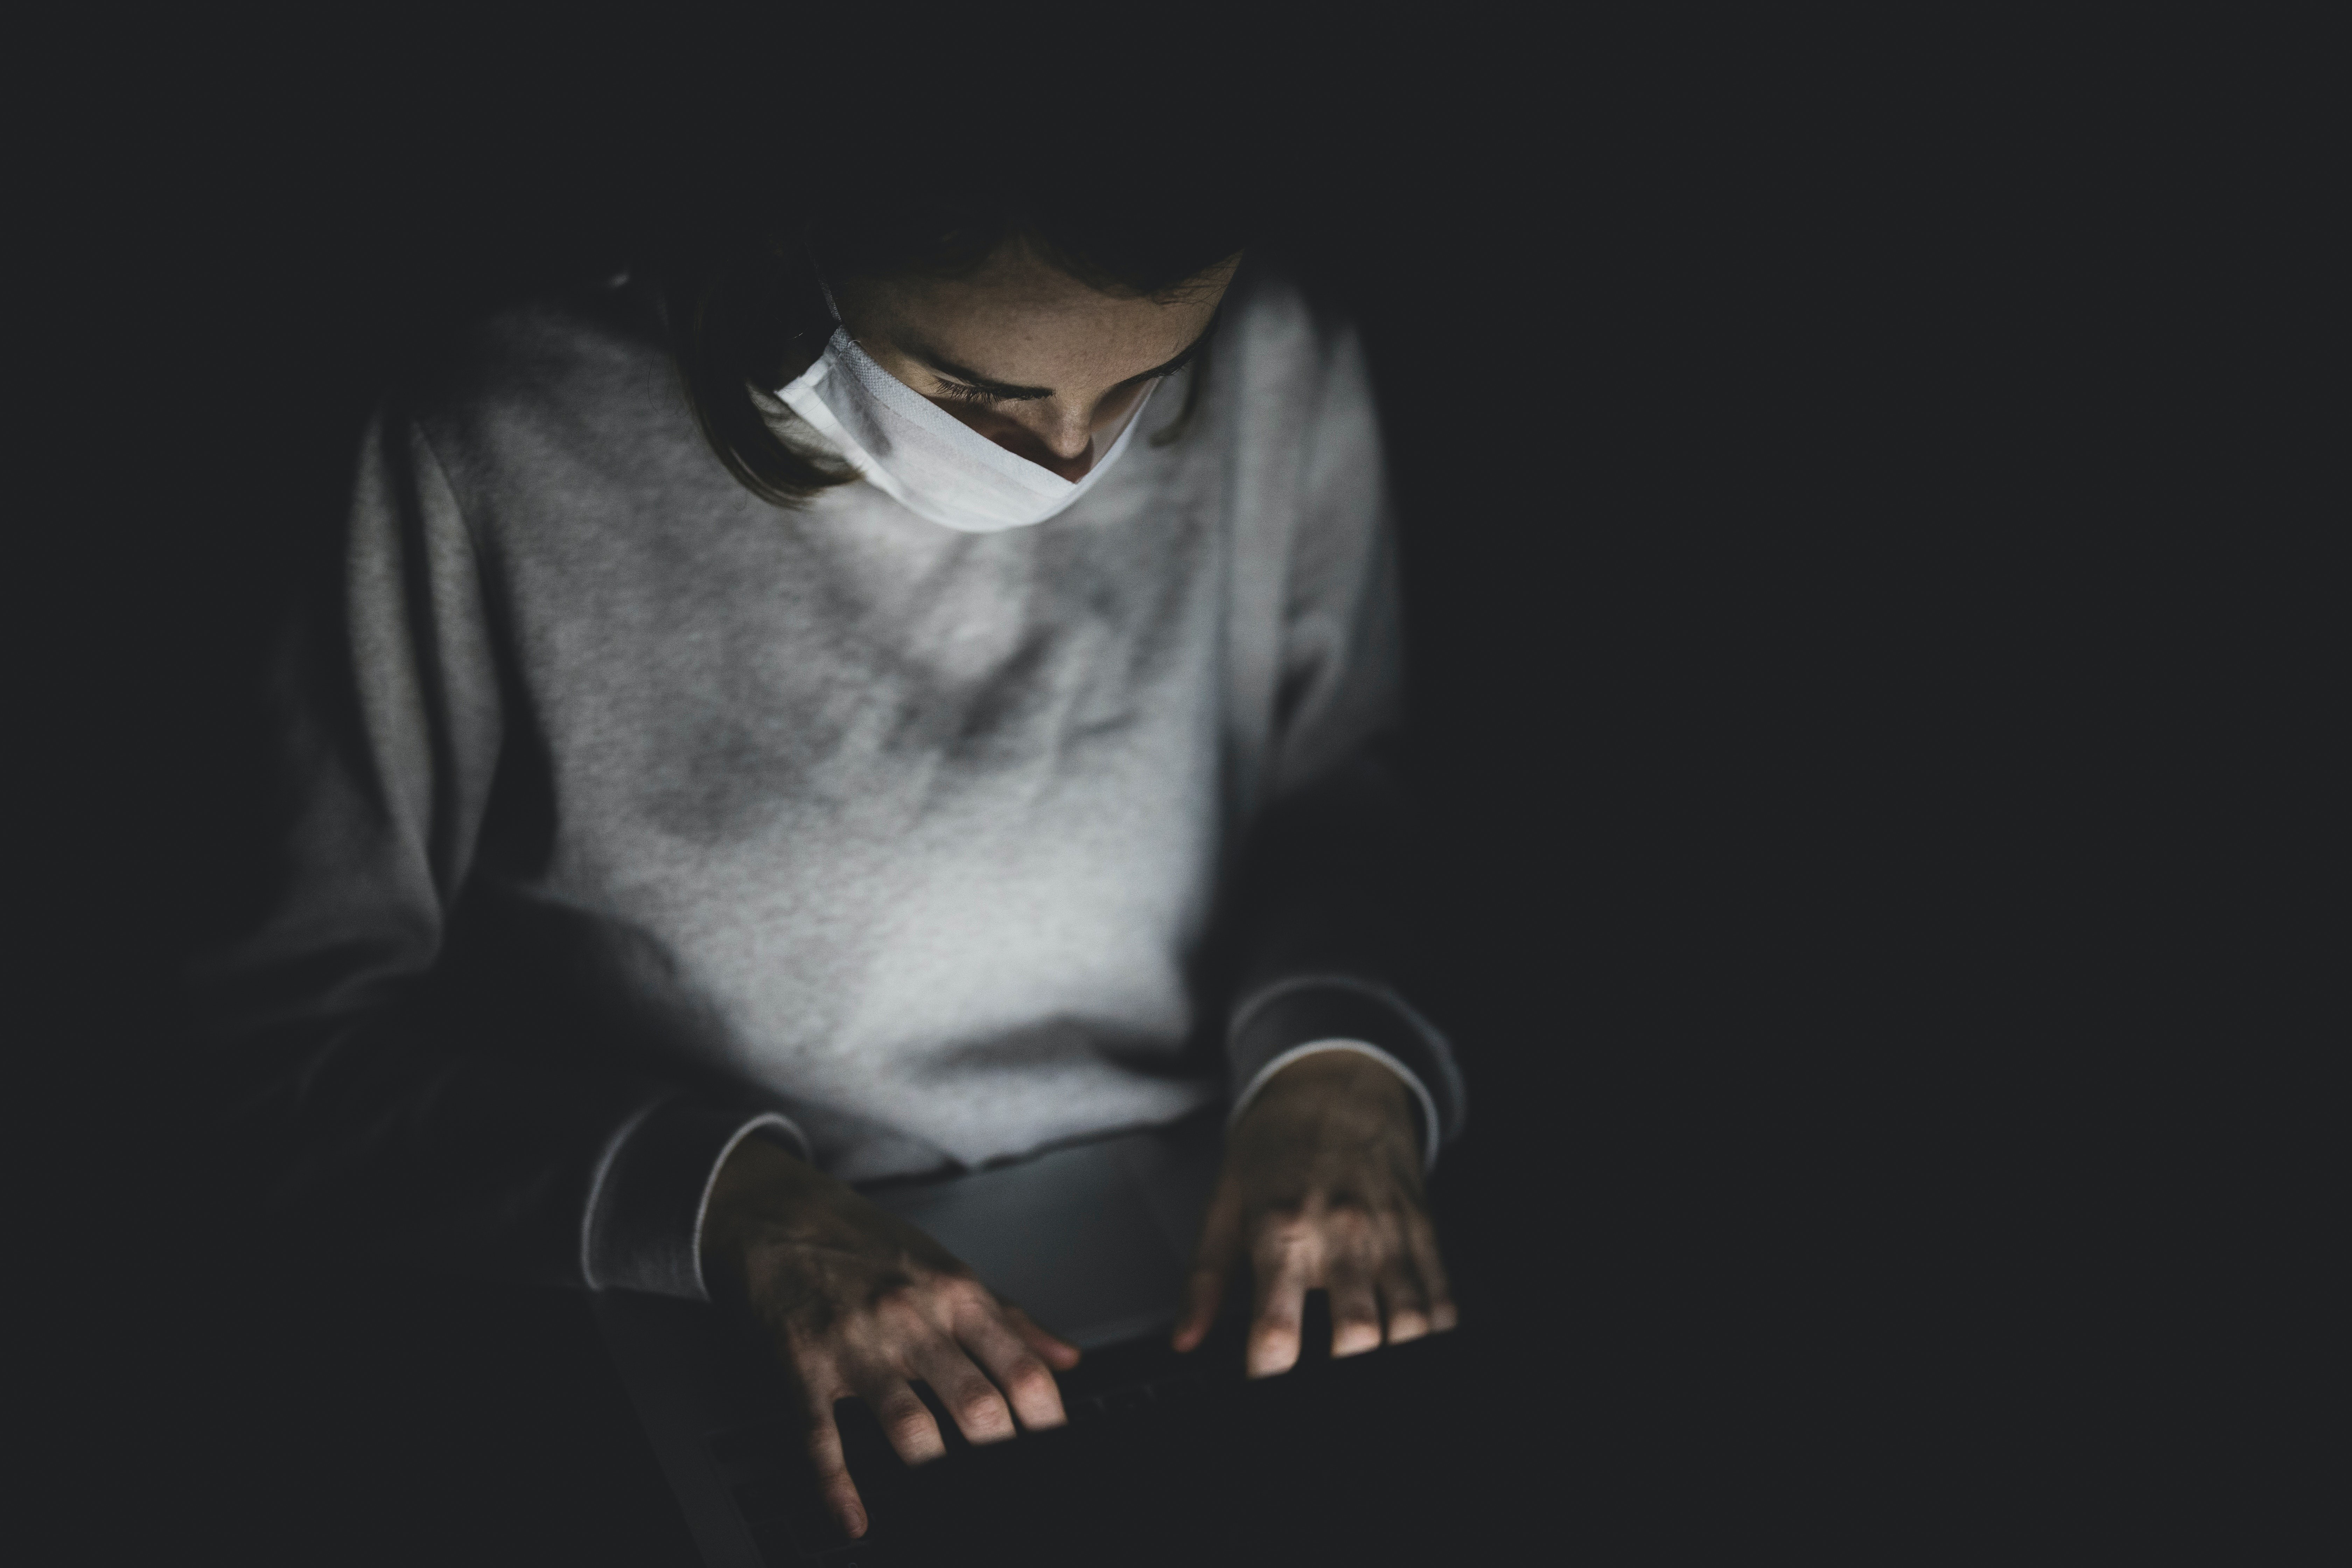face_with_mask: (719, 102, 1263, 538)
